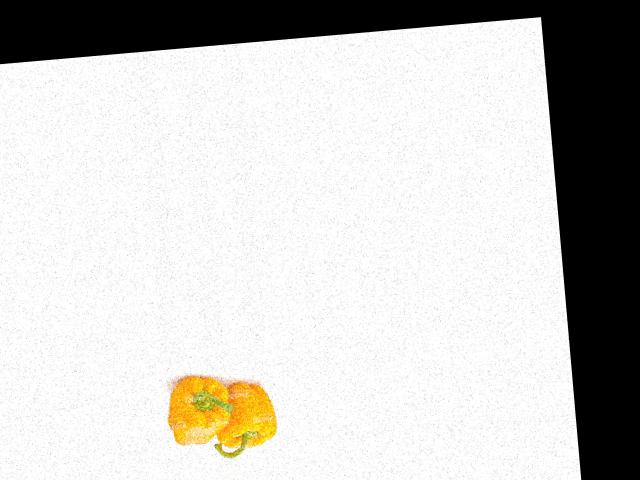bell_pepper: (206, 378, 280, 457)
